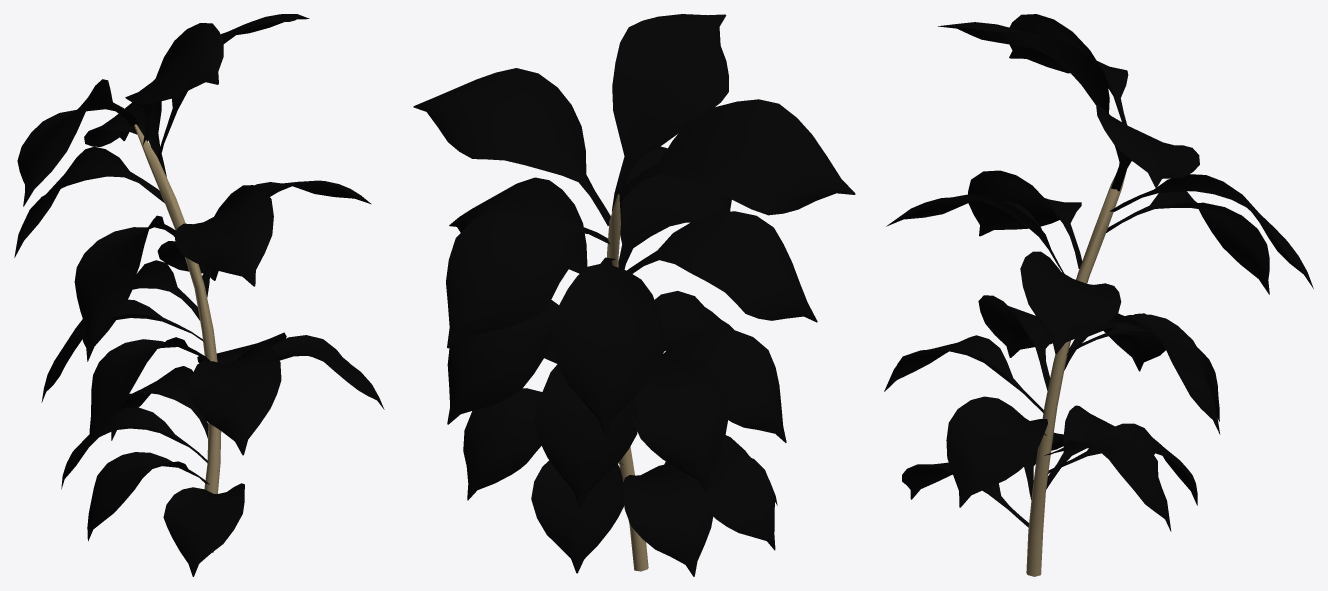
File: potted_plant.fbx
3 views of the same model, side by side, from view 1: azimuth 30°, elevation 25°; view 2: azimuth 150°, elevation 25°; view 3: azimuth 270°, elevation 25° (orthographic). The views are drawn at different scales.
Visible parts, largest first — view 1: plant_leaves, plant_main; view 2: plant_leaves, plant_main; view 3: plant_leaves, plant_main.
Part boxes in pixels (bbox=[...]): plant_leaves: bbox=[14, 14, 384, 576]; plant_main: bbox=[134, 124, 221, 552]; plant_leaves: bbox=[413, 14, 855, 576]; plant_main: bbox=[607, 194, 648, 571]; plant_leaves: bbox=[884, 14, 1313, 531]; plant_main: bbox=[1026, 171, 1126, 576].
Size of the model in its own units: 14.77 by 19.96 by 14.3.
